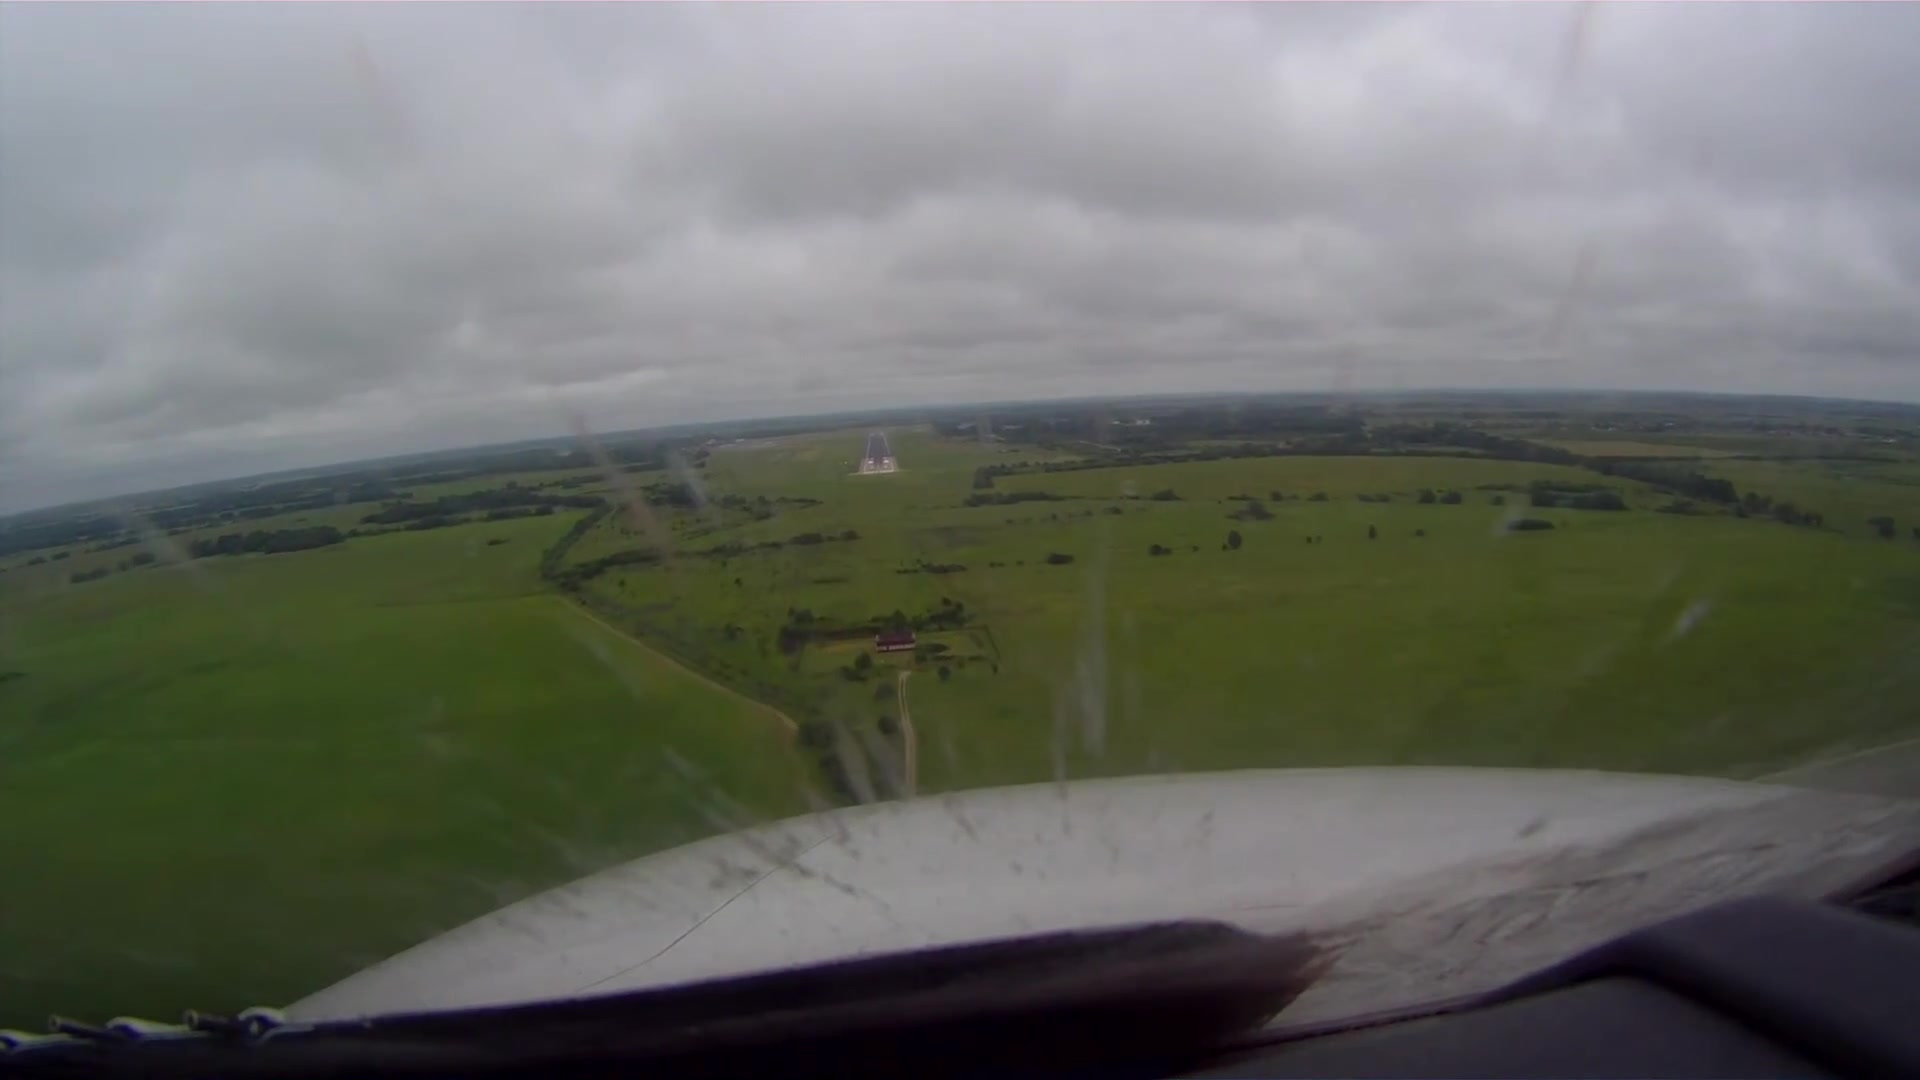runway: (861, 431, 895, 476)
